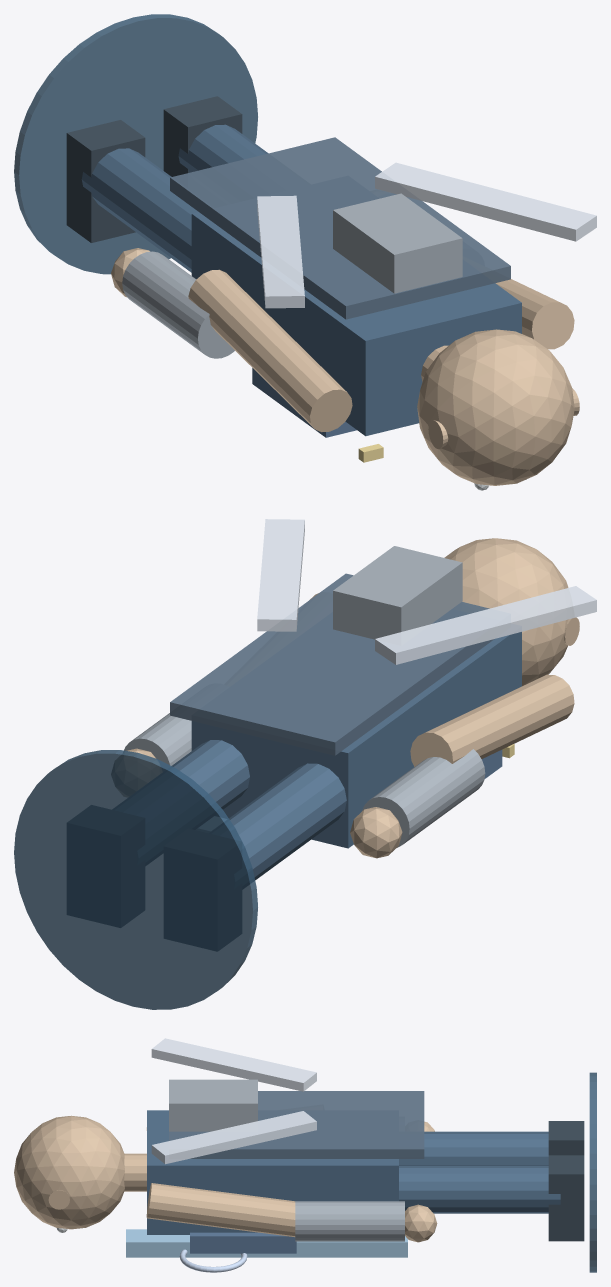
The model's file is SW_NPC_004_damak_skyrill.glb.
The picture shows the model from 3 angles, top to bottom: view 1: azimuth 30°, elevation 25°; view 2: azimuth 150°, elevation 25°; view 3: azimuth 270°, elevation 25°; orthographic projection. The views are drawn at different scales.
Parts seen in each view (by area): view 1: round_base_plate, torso_uniform, storm_cloak, head, left_upper_arm, wingpack_core, left_leg, right_wing_rig, left_forearm_gauntlet, left_boot, left_wing_rig, right_boot (+4 smaller); view 2: round_base_plate, storm_cloak, torso_uniform, wingpack_core, head, left_leg, left_upper_arm, left_wing_rig, left_forearm_gauntlet, right_wing_rig, right_leg, right_forearm_gauntlet (+1 smaller); view 3: torso_uniform, storm_cloak, head, right_leg, right_upper_arm, left_leg, right_forearm_gauntlet, wingpack_core, rank_sash, right_wing_rig, left_wing_rig, right_boot (+7 smaller).
Part boxes in pixels (x1,y1,x2,y2): round_base_plate: (14, 14, 257, 274); torso_uniform: (191, 212, 521, 436); storm_cloak: (170, 137, 510, 319); head: (417, 329, 574, 485); left_upper_arm: (188, 269, 352, 432); wingpack_core: (333, 193, 462, 293); left_leg: (81, 148, 198, 272); right_wing_rig: (375, 162, 596, 241); left_forearm_gauntlet: (122, 251, 234, 358); left_boot: (66, 120, 145, 242); left_wing_rig: (257, 195, 304, 308); right_boot: (163, 96, 242, 176); round_base_plate: (14, 750, 257, 1009); storm_cloak: (170, 573, 494, 755); torso_uniform: (191, 631, 521, 848); wingpack_core: (333, 546, 462, 639); head: (444, 538, 568, 686); left_leg: (229, 763, 346, 879); left_upper_arm: (410, 674, 574, 766); left_wing_rig: (375, 586, 596, 664); left_forearm_gauntlet: (362, 749, 485, 847); right_wing_rig: (257, 519, 304, 631); right_leg: (171, 740, 249, 809); right_forearm_gauntlet: (124, 713, 191, 765); torso_uniform: (147, 1110, 398, 1234); storm_cloak: (169, 1091, 424, 1158); head: (14, 1115, 124, 1229); right_leg: (399, 1166, 560, 1213); right_upper_arm: (146, 1183, 295, 1237); left_leg: (399, 1131, 548, 1165); right_forearm_gauntlet: (295, 1201, 404, 1241); wingpack_core: (169, 1079, 257, 1131); rank_sash: (126, 1229, 407, 1257); right_wing_rig: (151, 1111, 316, 1164); left_wing_rig: (151, 1038, 316, 1091); right_boot: (548, 1155, 584, 1241).
Bounding box in the file's own units: 1.05 × 0.756 × 2.2.
